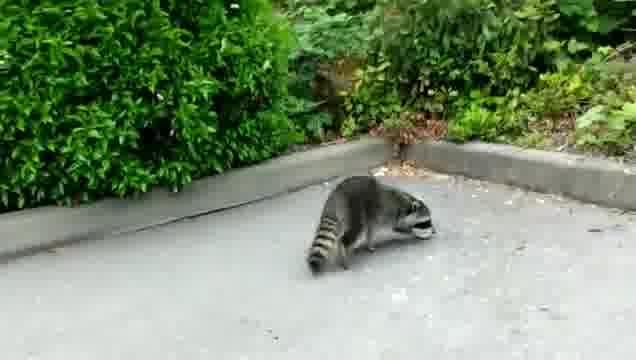raccoon: (307, 173, 438, 275)
